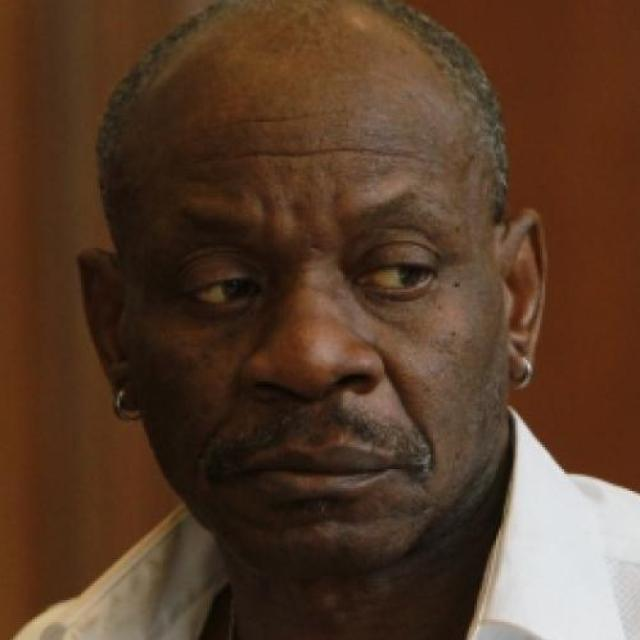Depress: (114, 8, 517, 586)
